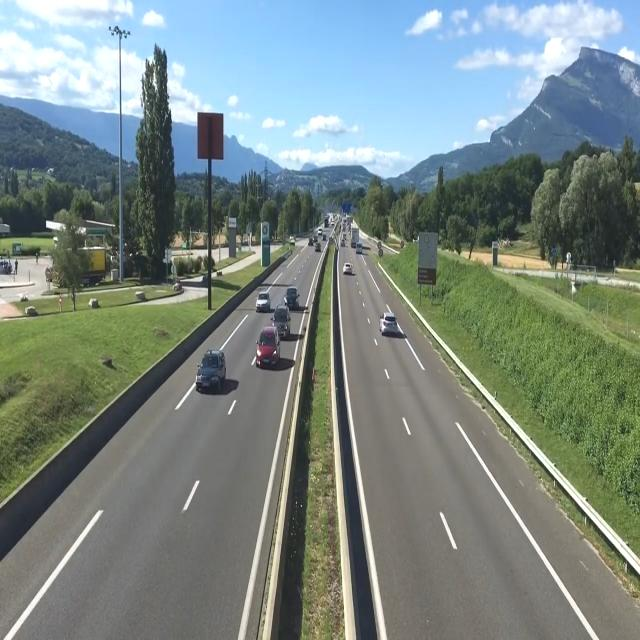Car: (196, 348, 228, 392), (379, 311, 398, 335), (256, 291, 270, 310), (343, 262, 353, 275)
Van: (255, 326, 280, 366), (271, 305, 292, 336), (283, 286, 300, 310), (355, 241, 363, 255)
